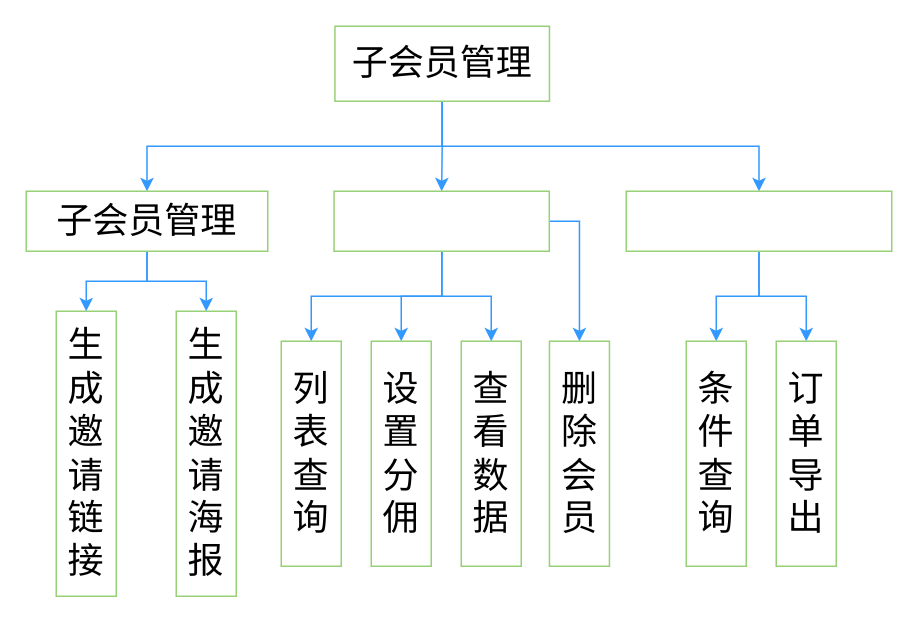
This 918x623 diagram has some shape labels left out. Each missing label, with the centre of its shape:
子会员列表: [441,220]
子会员订单: [758,220]
